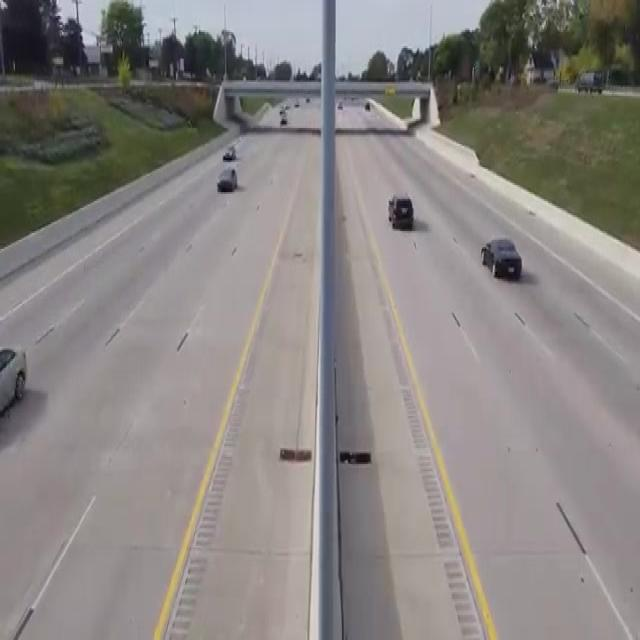car: (471, 236, 524, 292), (370, 186, 420, 232), (209, 159, 243, 204), (218, 141, 243, 155), (281, 113, 291, 140)
